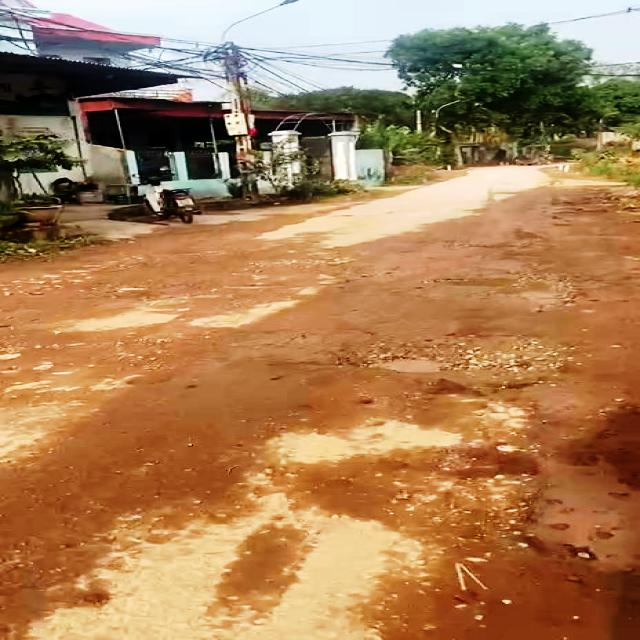pothole: (491, 461, 640, 570), (326, 334, 575, 386), (422, 274, 577, 306), (106, 284, 168, 300)
